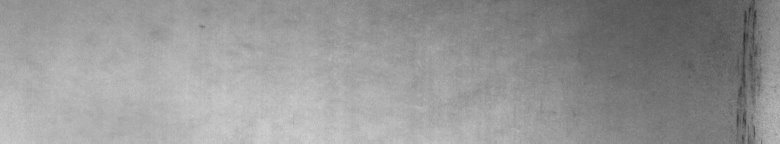ka: (684, 4, 764, 136)
